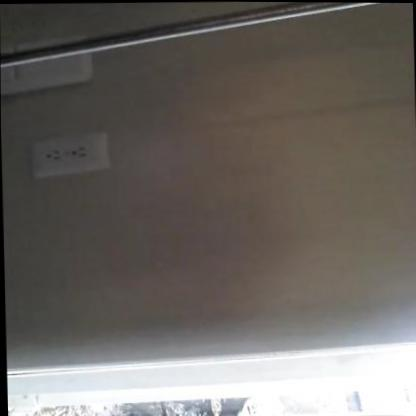OUTLET: (27, 129, 109, 180)
